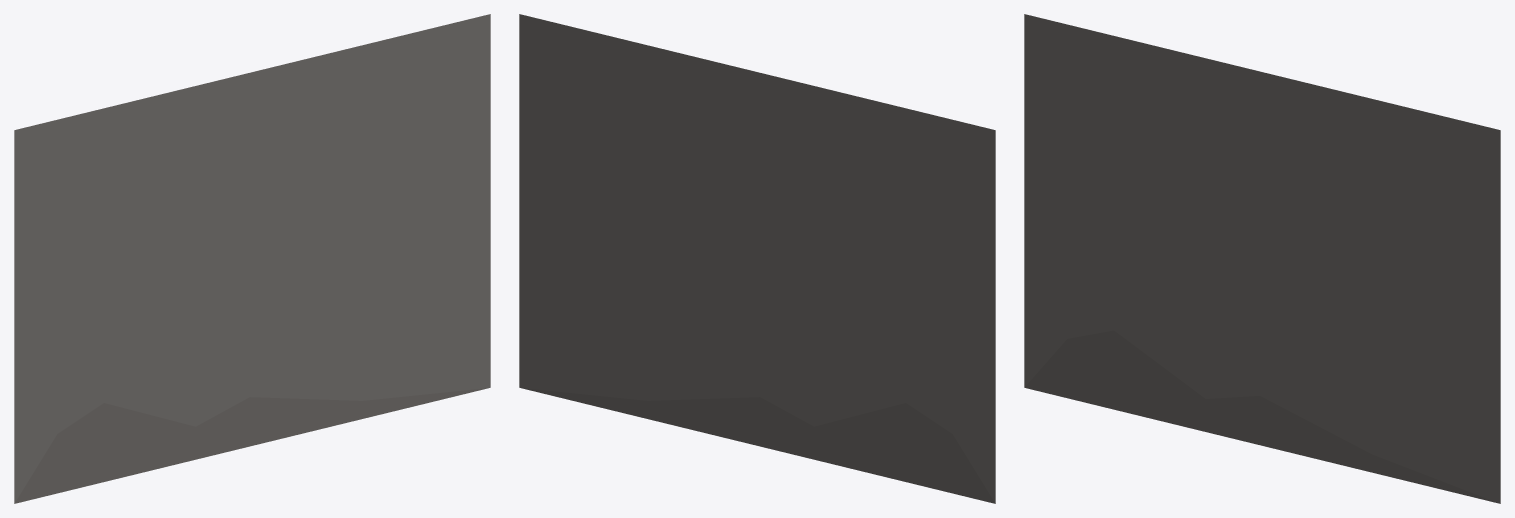
The model's file is AI_Env_Sewer_Wall_Stained_01.fbx.
3 renders of one model, left to right at view 1: azimuth 30°, elevation 25°; view 2: azimuth 150°, elevation 25°; view 3: azimuth 330°, elevation 25°, orthographic.
Visible parts, largest first — view 1: AI_Env_Sewer_Wall_Stained_01; view 2: AI_Env_Sewer_Wall_Stained_01; view 3: AI_Env_Sewer_Wall_Stained_01.
Part boxes in pixels (left/top/right/bottom): AI_Env_Sewer_Wall_Stained_01: left=14, top=14, right=490, bottom=503; AI_Env_Sewer_Wall_Stained_01: left=519, top=14, right=995, bottom=503; AI_Env_Sewer_Wall_Stained_01: left=1024, top=14, right=1500, bottom=503.
Size of the model in its own units: 5 by 3.75 by 1.05e-14.
